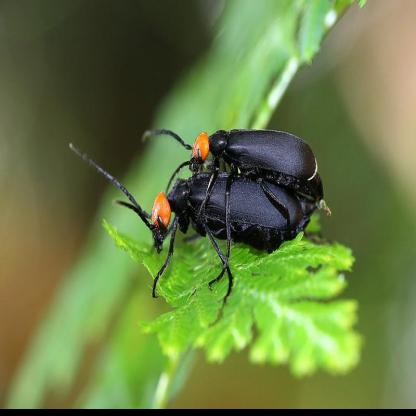beetle: (99, 164, 318, 272), (152, 107, 324, 188)
